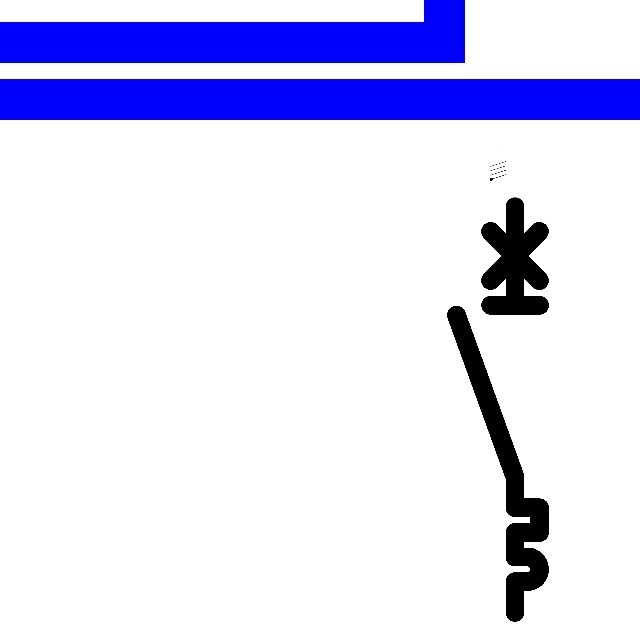interruptor_termomagnetico: (446, 196, 550, 623)
